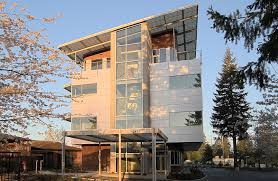Building House: (56, 11, 209, 166)
